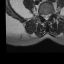CCS_normal: (45, 12, 47, 22)
LFS_normal: (49, 10, 52, 18)
LLS_normal: (47, 11, 49, 21)
RFS_normal: (40, 10, 43, 19)
RLS_normal: (42, 12, 45, 21)
